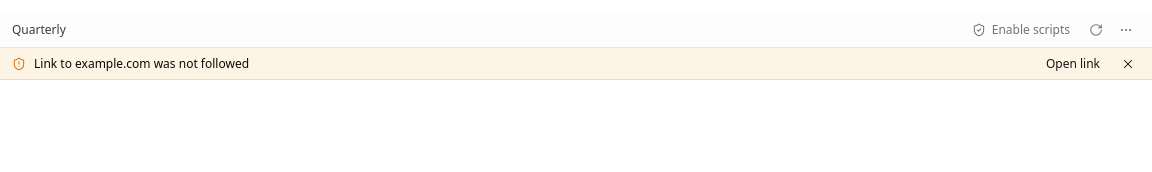
DocGuestPreview › offers to open a web link the document pointed at, through the app's link decision
The image size is (1152, 172).
Expected: the text "Link to example.com was not followed" is shown, [34,54,249,72]
Click the button "Open link": (1073, 64) [1038,54,1108,74]
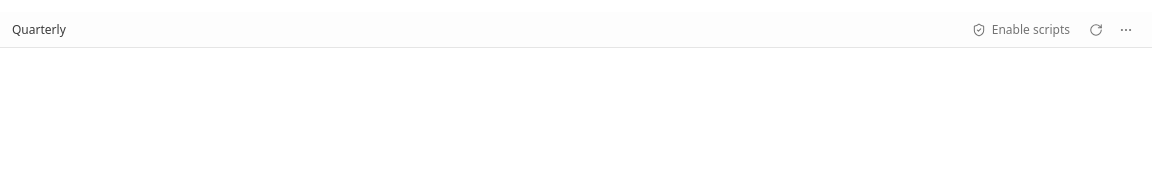
Expected: the text "was not followed" is gone
